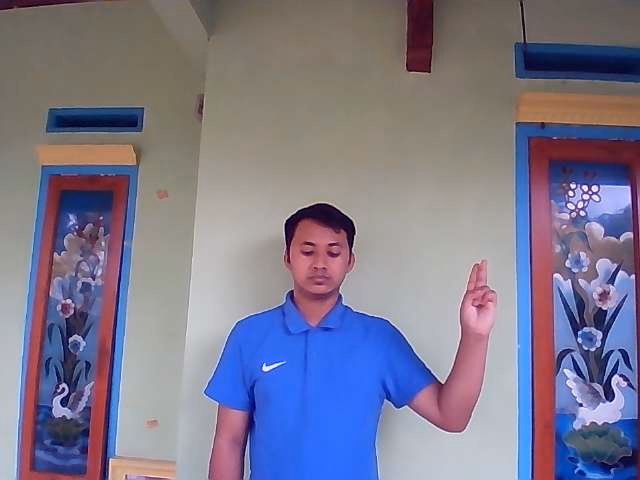U: (457, 256, 500, 333)
